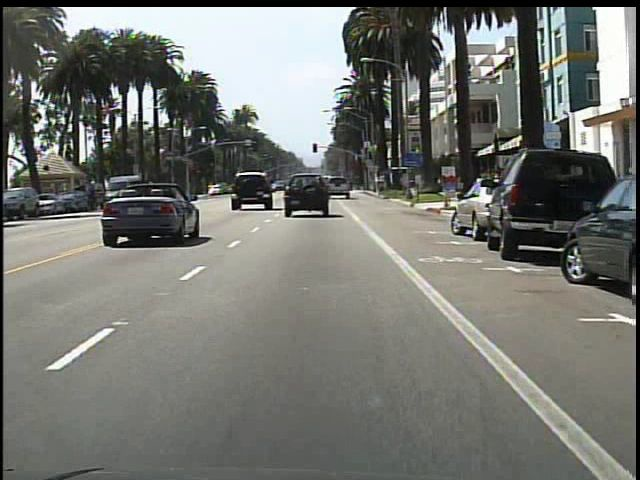person: (87, 179, 101, 212)
